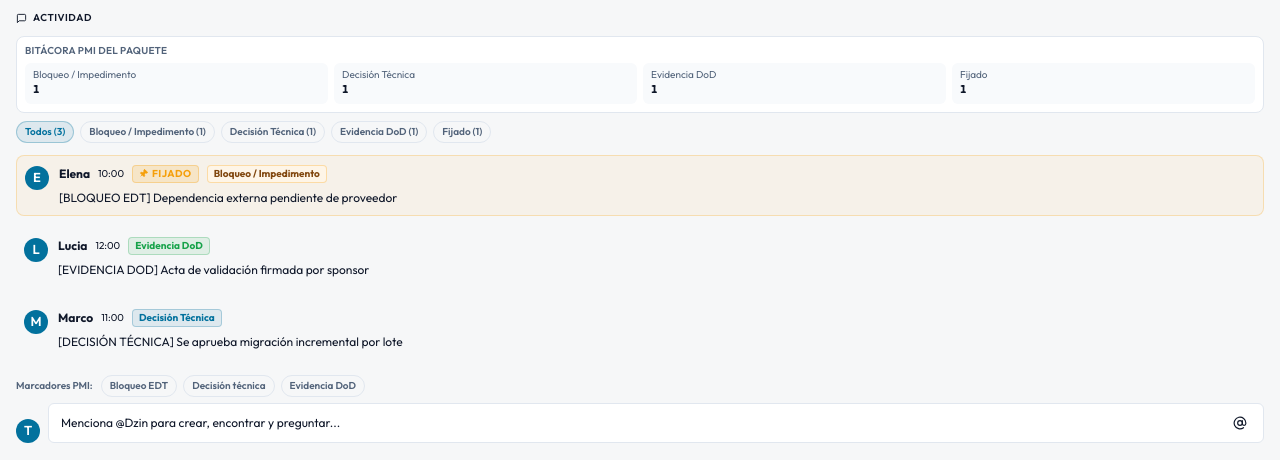
Test case: TaskCommentSection › summarizes PMI work package comment counts, renders semantic badges, and filters by category
The image size is (1280, 460).
Check: the text "Elena" is shown, box [59,164,90,182]
Check: the element with test id "task-comments-pmi-summary" is shown, box [16,36,1264,112]
Click the button "Bloqueo / Impedimento (1)": (148, 132) [80,120,215,142]
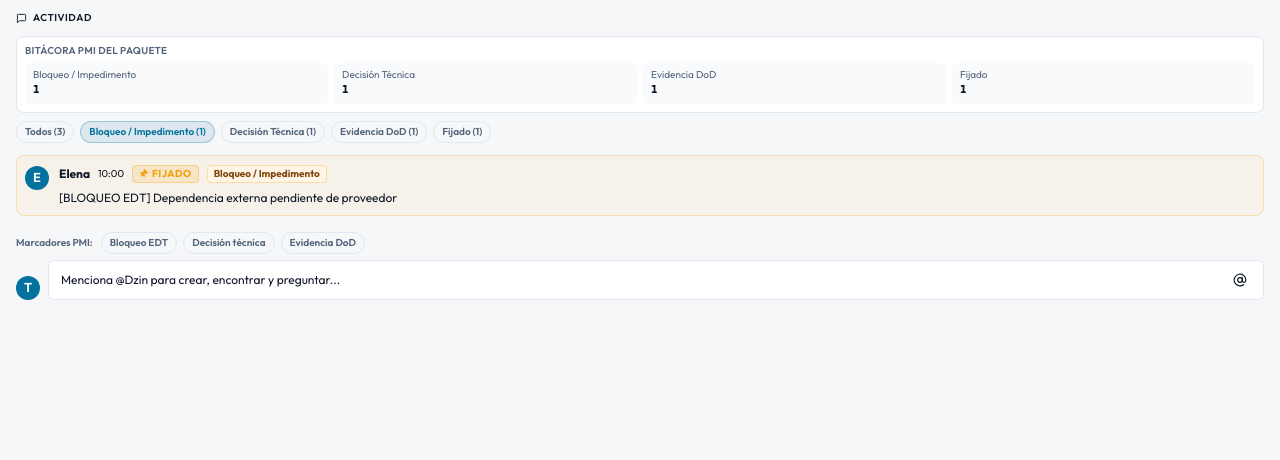
Check: the text "[BLOQUEO EDT] Dependencia externa pendiente de proveedor" is shown, box [59,190,397,204]
Check: the text "Se aprueba migración incremental" is gone
Click the button "Decisión Técnica (1)": (273, 132) [221,120,325,142]
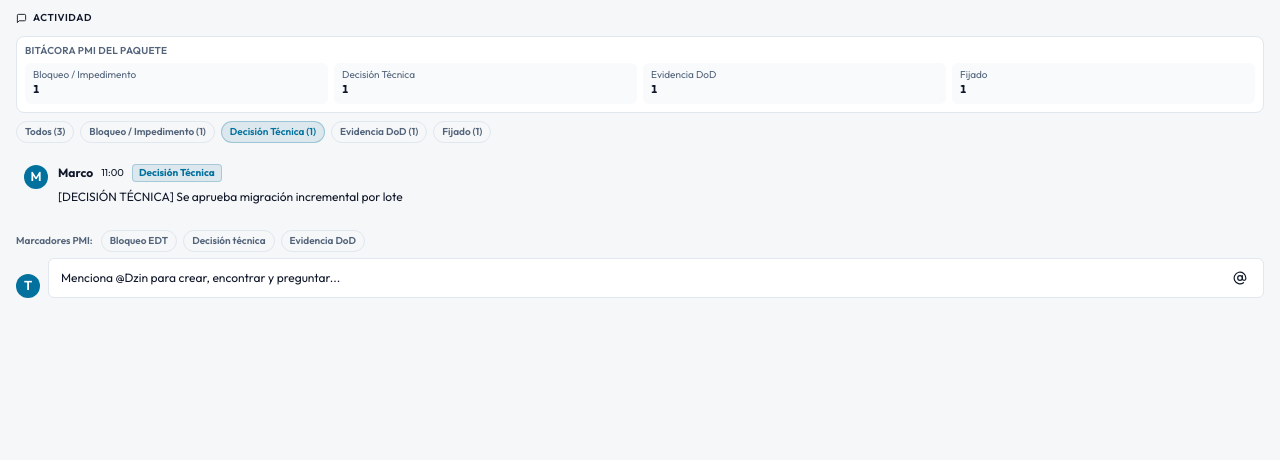
Check: the text "[DECISIÓN TÉCNICA] Se aprueba migración incremental por lote" is shown, box [58,188,403,204]
Check: the text "Dependencia externa pendiente" is gone
Click the button "Evidencia DoD (1)": (379, 132) [331,120,427,142]
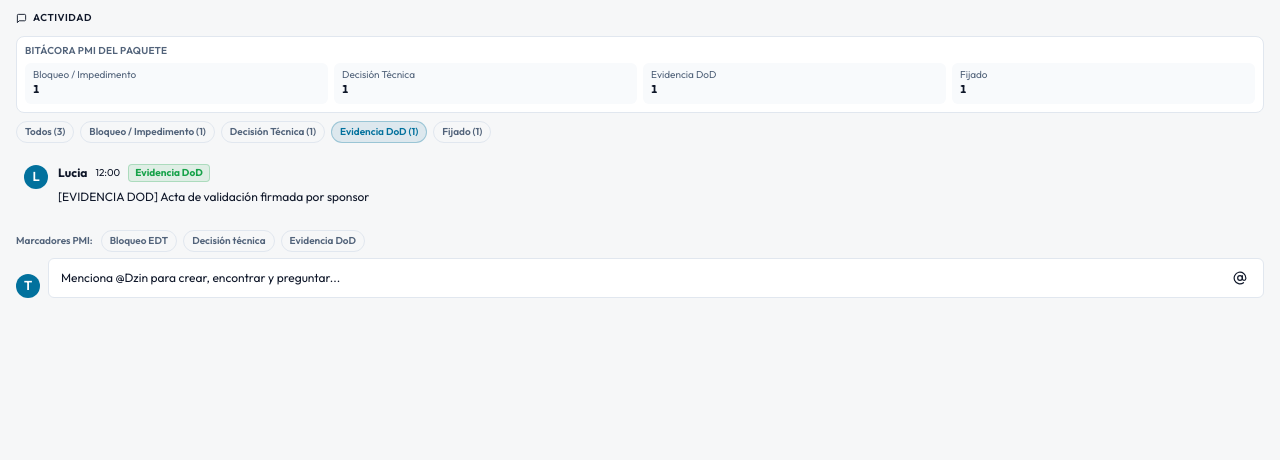
Check: the text "[EVIDENCIA DOD] Acta de validación firmada por sponsor" is shown, box [58,188,369,204]
Click the button "Fijado (1)": (462, 132) [433,120,491,142]
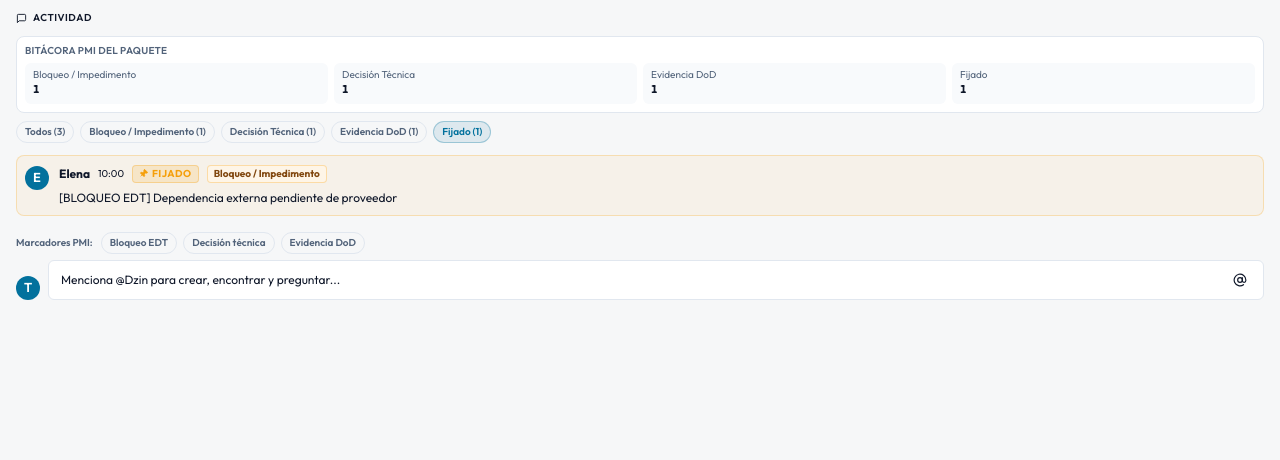
Check: the element with test id "task-comments-pmi-filter" is shown, box [16,120,491,142]
Check: the text "[BLOQUEO EDT] Dependencia externa pendiente de proveedor" is shown, box [59,190,397,204]
Check: the text "Acta de validación firmada" is gone
